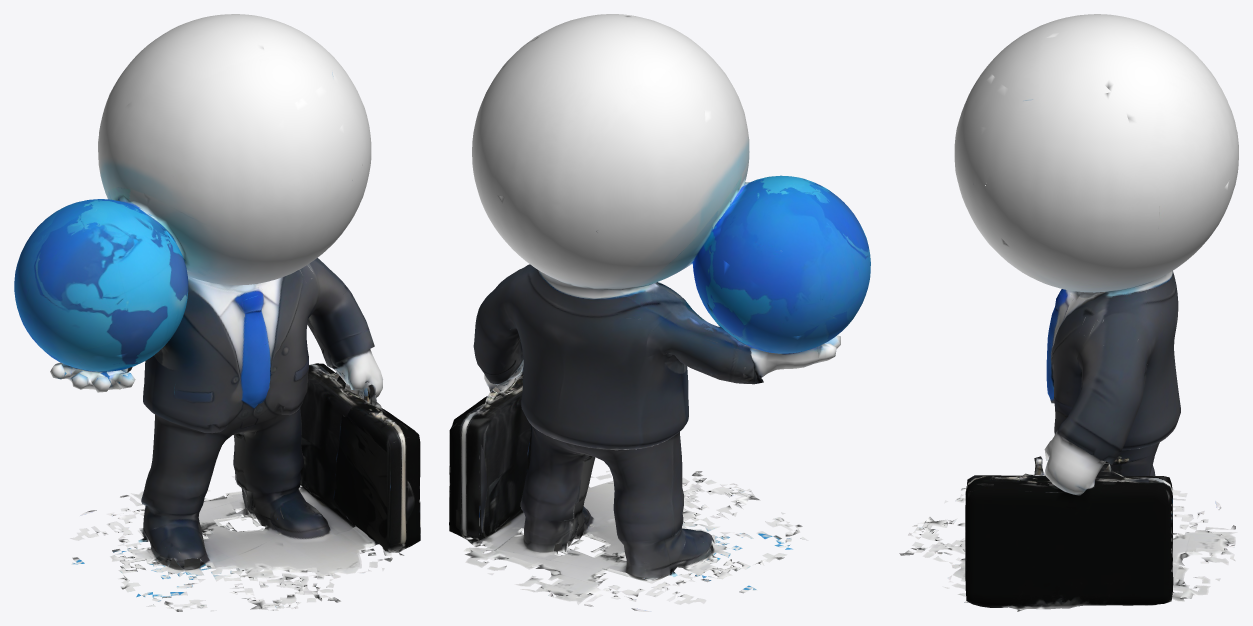
The model's file is man.glb.
The picture shows the model from 3 angles, left to right: view 1: azimuth 30°, elevation 25°; view 2: azimuth 150°, elevation 25°; view 3: azimuth 270°, elevation 25°; orthographic projection. The views are drawn at different scales.
Bounding box in the file's own units: 1.47 × 2 × 1.17.
1 material, 1 textured.
